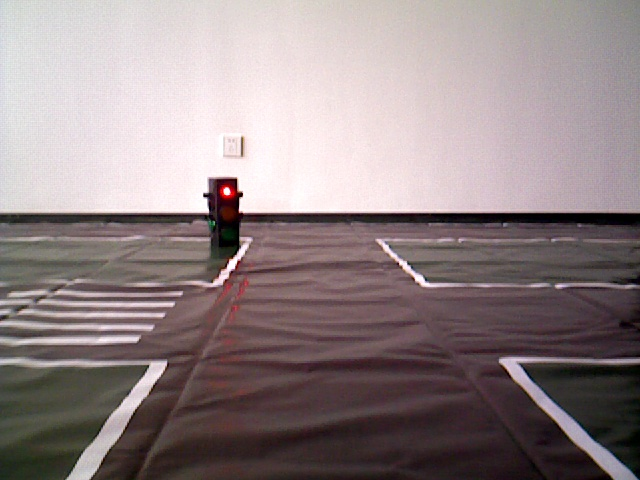red: (211, 180, 236, 252)
